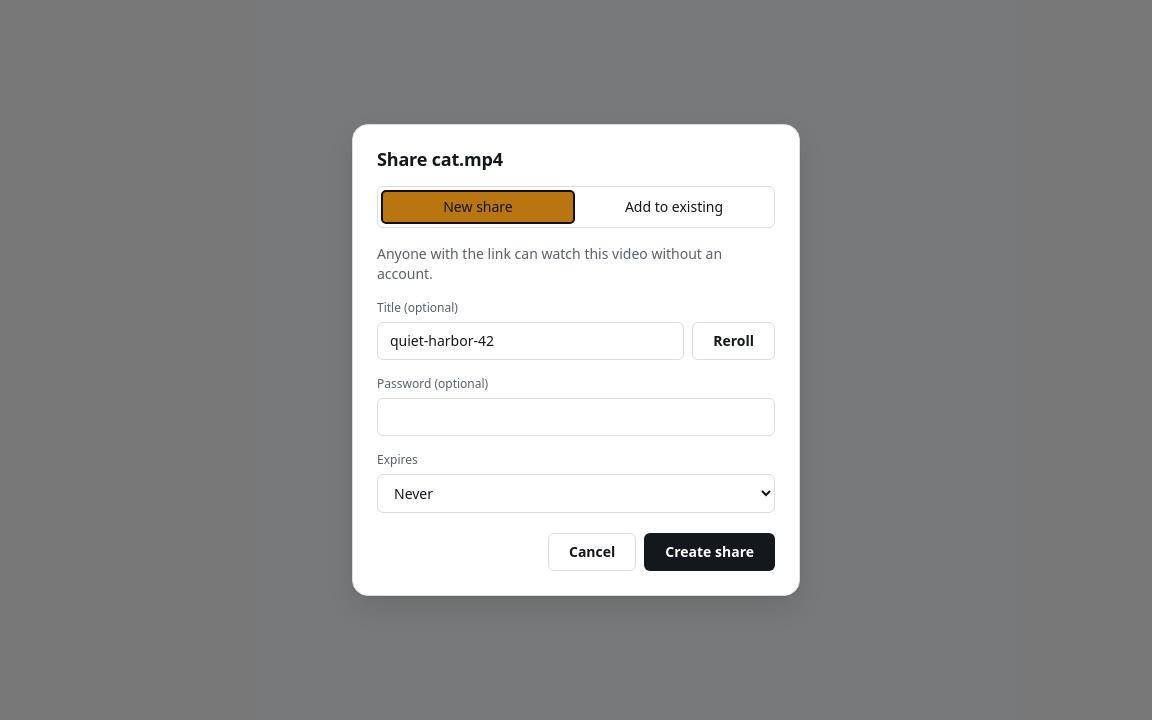
ShareDialog › reroll replaces the prefilled name with a fresh draw
Click the button "Reroll": (734, 341) [692,322,775,360]
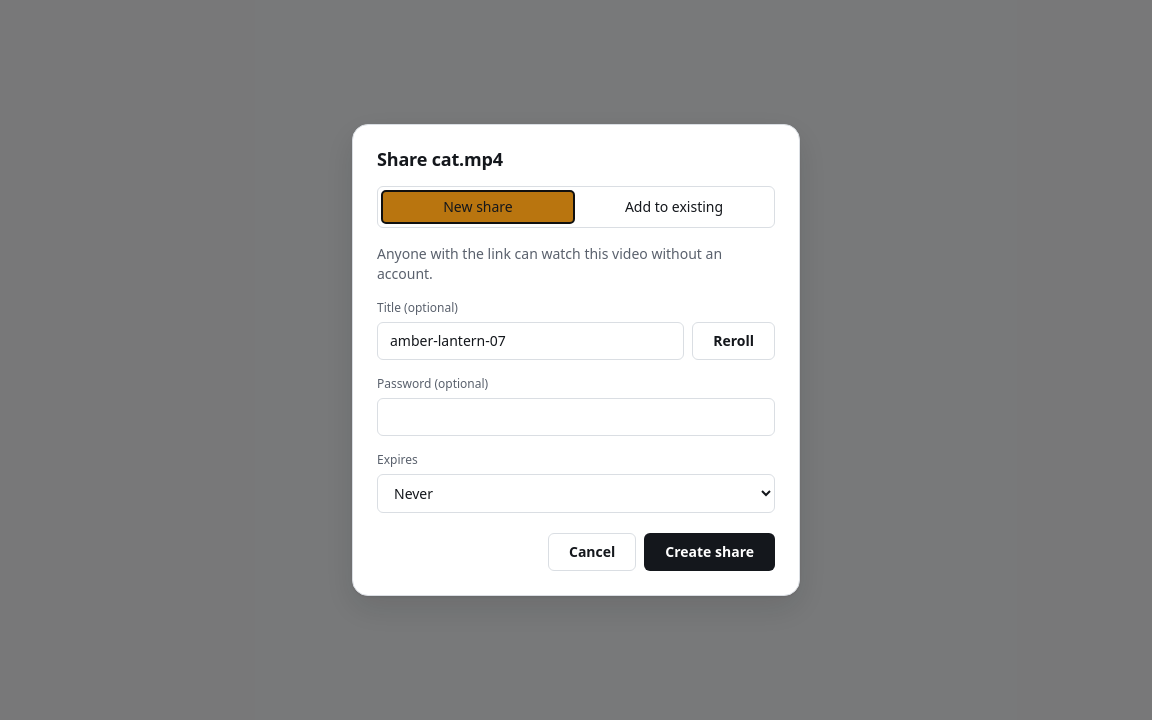
Result: the field labelled "Title (optional)" holds "amber-lantern-07" at [377,322,684,360]
